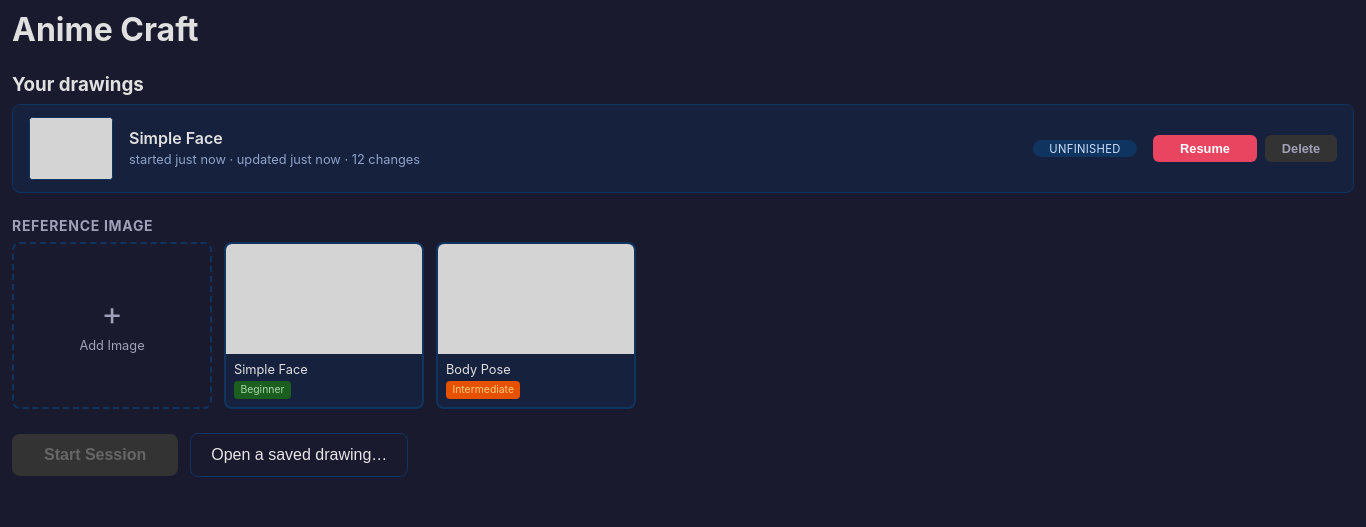
HomePage › says so when a saved drawing will not open
Expected: the list item with test id "resume-item-session-042" is shown, [12,104,1354,193]
Click the button with test id "resume-btn-session-042" at point(1205, 148), box [1153,135,1257,162]
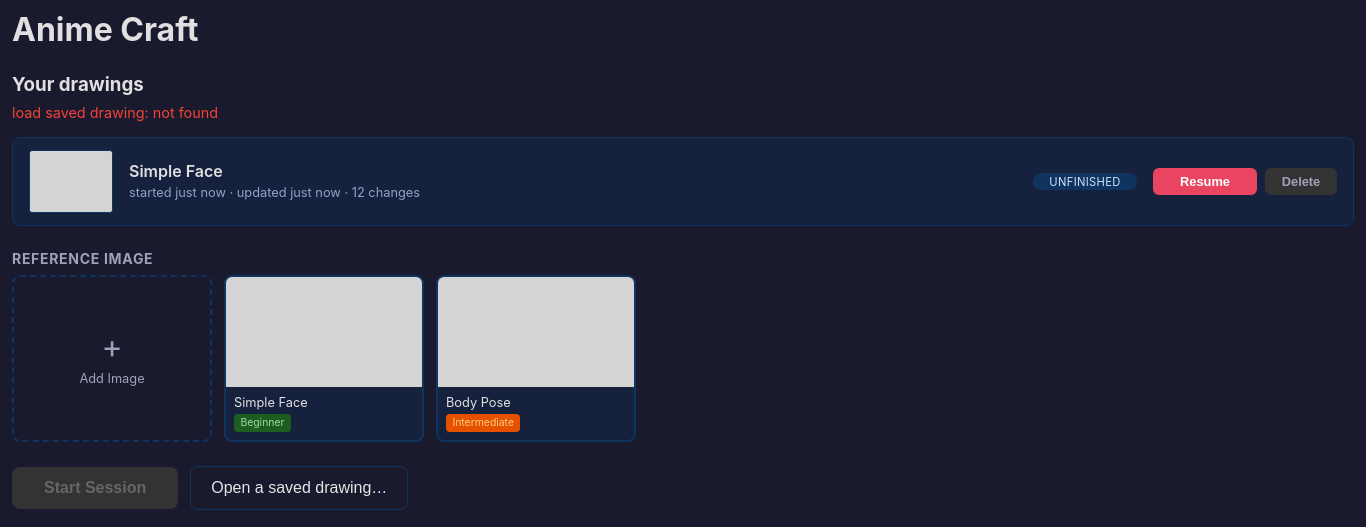
Result: the text with test id "resume-sessions-error" reads "load saved drawing: not found" at [12,104,218,121]
